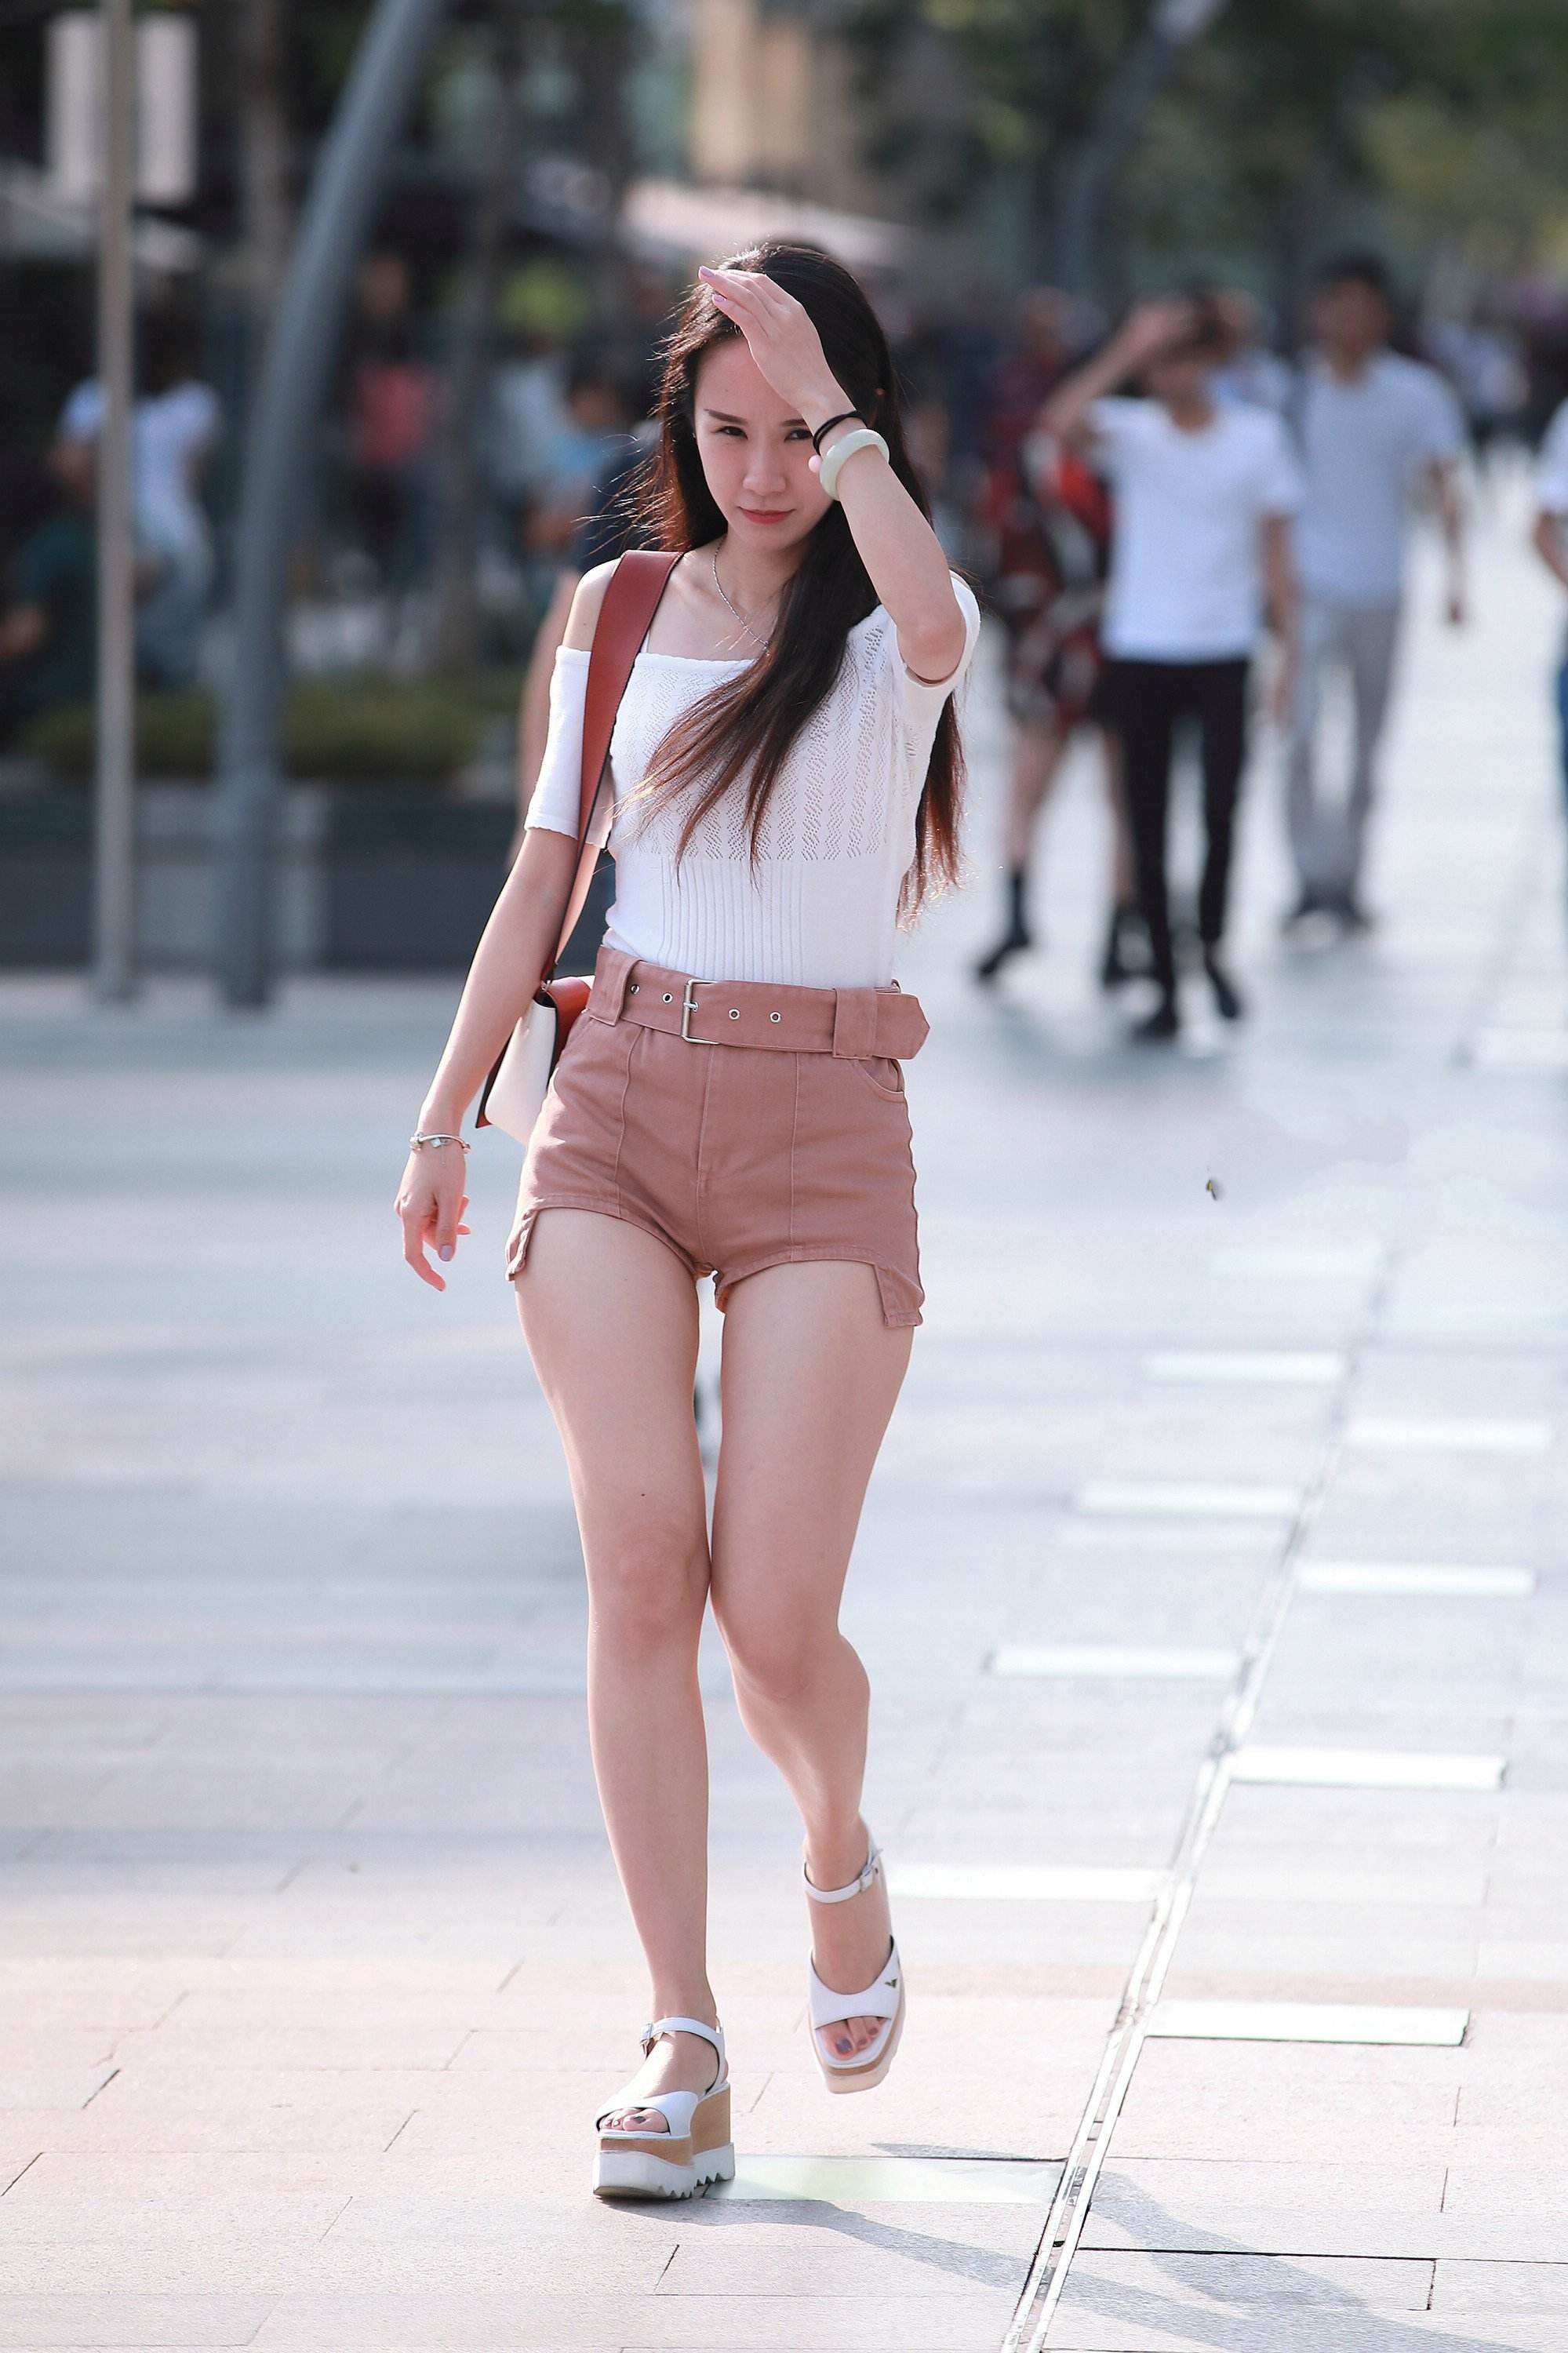person: (372, 199, 1131, 2170)
